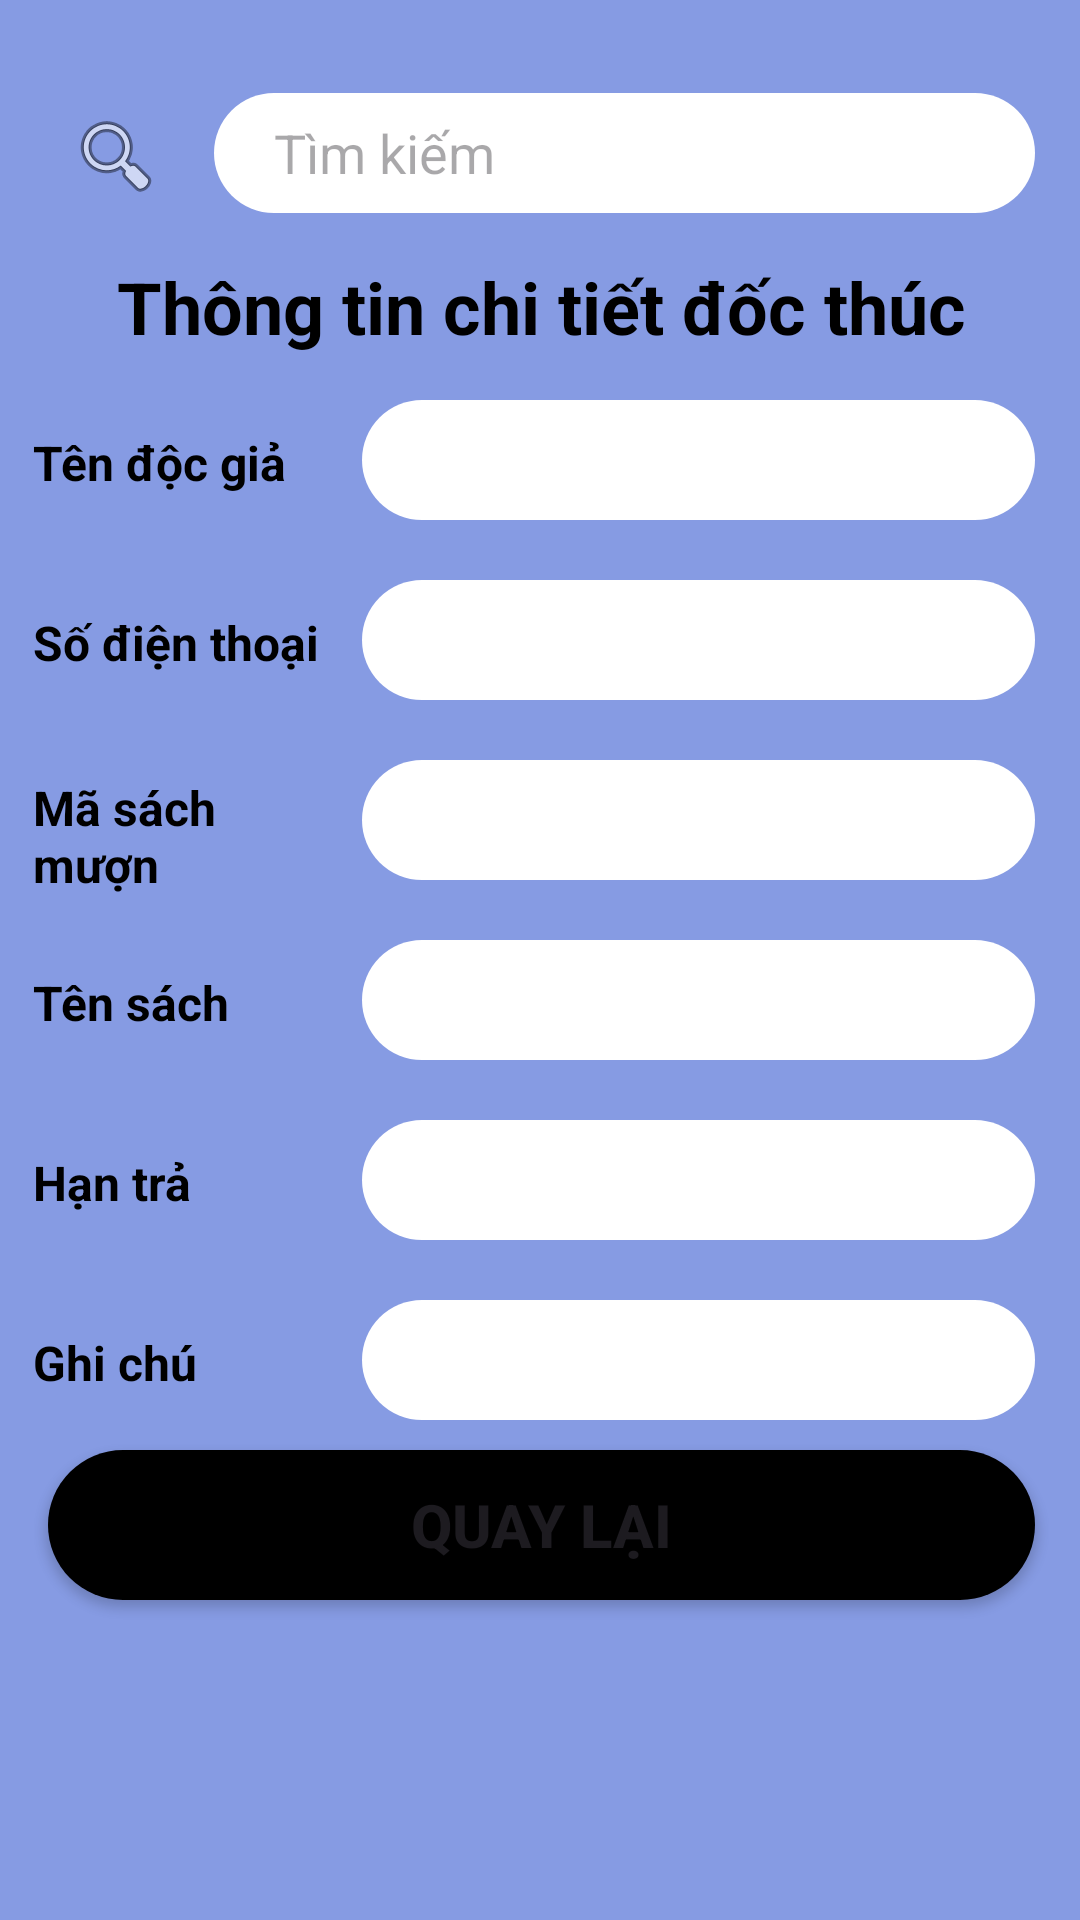

Screen size 1080*1920. Icon name, then its box in pixels as (x1, y1, x2, y2):
search: (80, 121, 152, 192)
